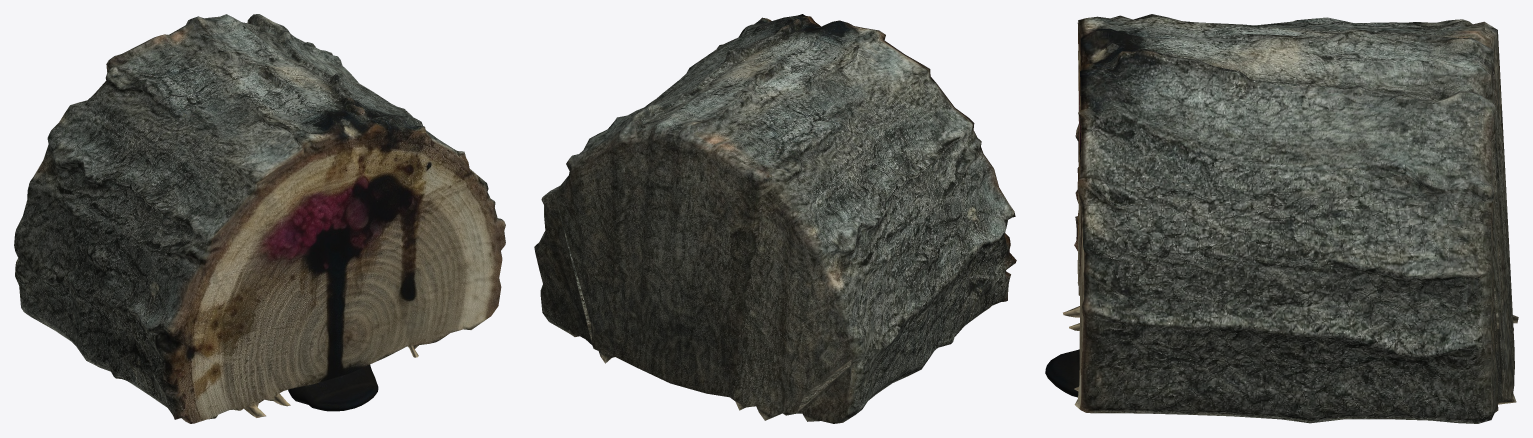
The model's file is Modelo_Coihue.glb.
The picture shows the model from 3 angles, left to right: view 1: azimuth 30°, elevation 25°; view 2: azimuth 150°, elevation 25°; view 3: azimuth 270°, elevation 25°; orthographic projection. The views are drawn at different scales.
Visible parts, largest first — view 1: tripo_node_333647ab-1d4c-4b03-bae3-1e268dc4a821; view 2: tripo_node_333647ab-1d4c-4b03-bae3-1e268dc4a821; view 3: tripo_node_333647ab-1d4c-4b03-bae3-1e268dc4a821.
Part boxes in pixels (x1,y1,x2,y2): tripo_node_333647ab-1d4c-4b03-bae3-1e268dc4a821: (14, 14, 505, 423); tripo_node_333647ab-1d4c-4b03-bae3-1e268dc4a821: (534, 14, 1016, 423); tripo_node_333647ab-1d4c-4b03-bae3-1e268dc4a821: (1045, 14, 1518, 423).
Bounding box in the file's own units: 1 × 0.7645 × 0.9238.
Materials: 1 (1 with a texture image).
